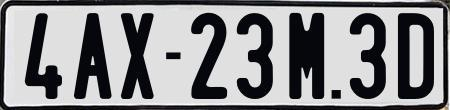2: (189, 13, 225, 99)
3: (236, 11, 277, 101), (347, 11, 384, 99)
4: (24, 11, 62, 100)
A: (73, 12, 117, 99)
D: (395, 10, 434, 101)
M: (289, 13, 324, 100)
X: (118, 13, 152, 103)
